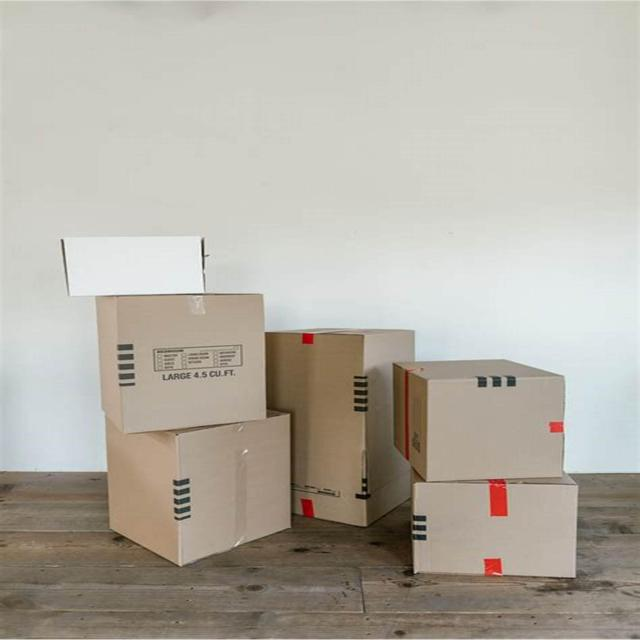cardboard: (264, 326, 416, 530), (107, 409, 293, 569), (92, 292, 268, 436), (389, 356, 568, 482), (410, 469, 580, 579)
